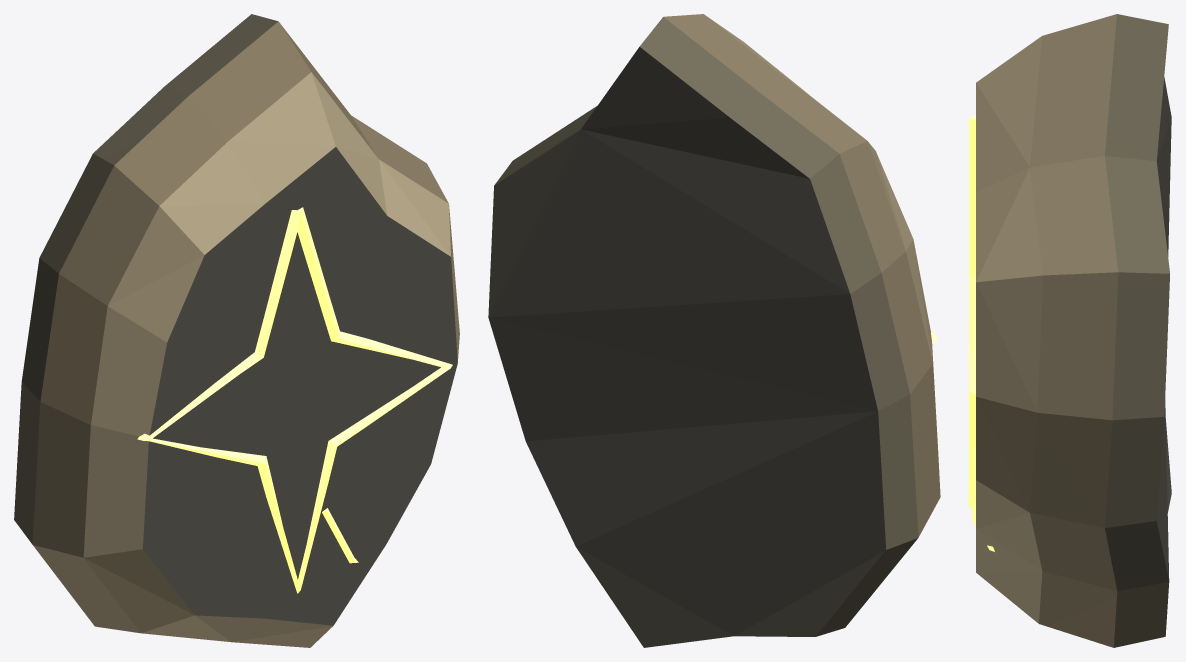
File: FERNSTONE_LIGHT.lo.glb
The picture shows the model from 3 angles, left to right: view 1: azimuth 30°, elevation 25°; view 2: azimuth 150°, elevation 25°; view 3: azimuth 270°, elevation 25°; orthographic projection. The views are drawn at different scales.
Parts seen in each view (by area): view 1: Body_Mesh; view 2: Body_Mesh; view 3: Body_Mesh.
Boxes of the visible parts, <box> form: Body_Mesh: <box>14,14,459,647</box>; Body_Mesh: <box>488,14,940,647</box>; Body_Mesh: <box>969,14,1171,647</box>.
Size of the model in its own units: 0.2513 by 0.3648 by 0.1054.
Materials: 1 (1 with a texture image).
